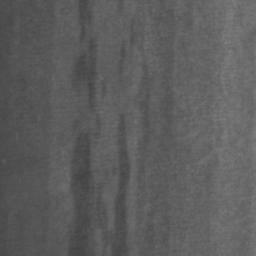Inclusion: (68, 113, 131, 256), (74, 0, 97, 105)
